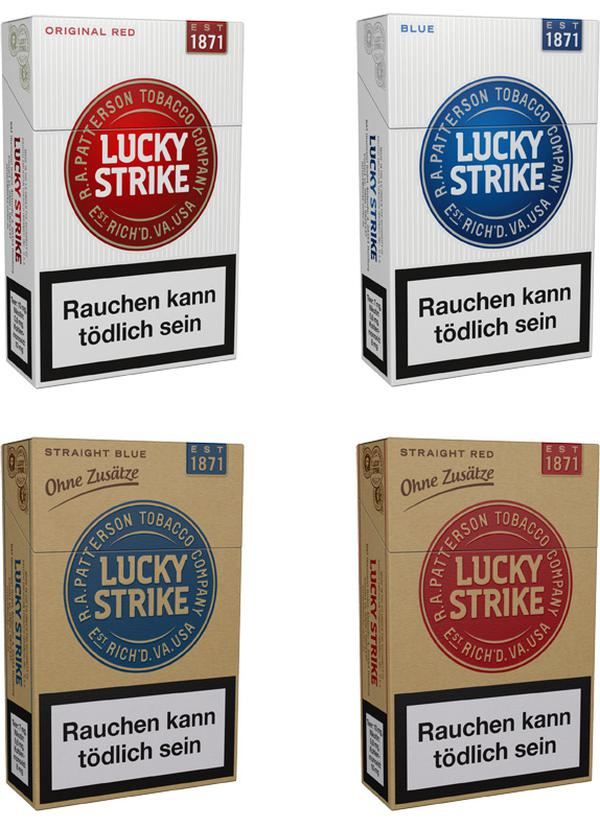lucky_strike_blue: (391, 15, 586, 354)
lucky_strike_red: (33, 20, 238, 357)
